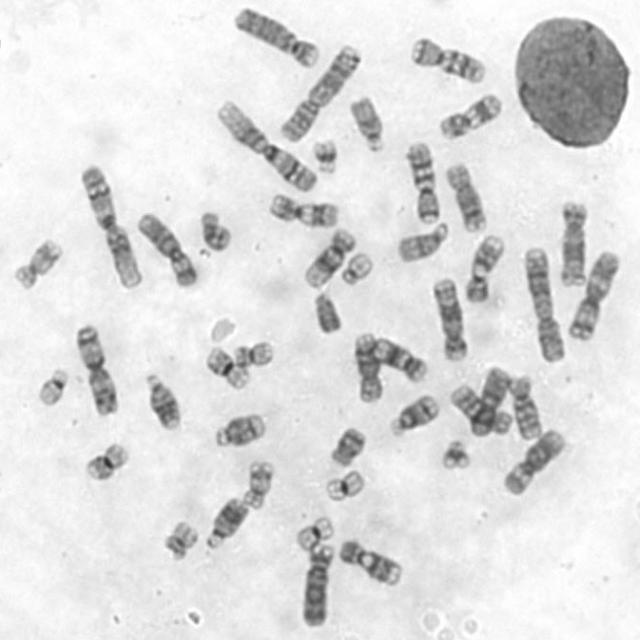A1: (212, 94, 321, 192), (77, 167, 145, 285)
A2: (279, 44, 364, 145), (519, 244, 571, 366)
A3: (567, 252, 621, 338), (74, 319, 119, 417)
B4: (231, 4, 324, 72), (296, 539, 336, 630)
B5: (429, 274, 470, 359), (554, 201, 592, 290)
C10: (447, 380, 513, 437), (506, 372, 543, 441)
C11: (435, 88, 505, 141), (266, 192, 339, 227)
C12: (299, 225, 356, 291), (368, 333, 431, 384)
C6: (134, 209, 202, 287), (499, 426, 566, 497)
C7: (405, 36, 490, 85), (403, 139, 444, 225)
C8: (442, 160, 488, 234), (352, 331, 381, 404)
C9: (457, 234, 507, 304), (335, 538, 405, 585)
D13: (201, 491, 251, 551), (142, 371, 182, 432)
D14: (383, 393, 443, 439), (211, 411, 270, 450)
D15: (394, 220, 450, 264), (346, 96, 387, 156)
E16: (201, 342, 253, 393), (82, 439, 130, 483)
E17: (10, 235, 64, 289), (240, 456, 276, 510)
E18: (324, 423, 368, 473), (196, 207, 235, 254)
F19: (290, 514, 335, 555), (322, 470, 366, 503)
F20: (160, 522, 198, 564), (235, 339, 278, 370)
G21: (436, 435, 474, 473), (308, 136, 342, 176)
G22: (34, 363, 70, 409), (338, 252, 372, 288)
X: (466, 361, 513, 439)
Y: (309, 290, 343, 339), (205, 313, 237, 347)
